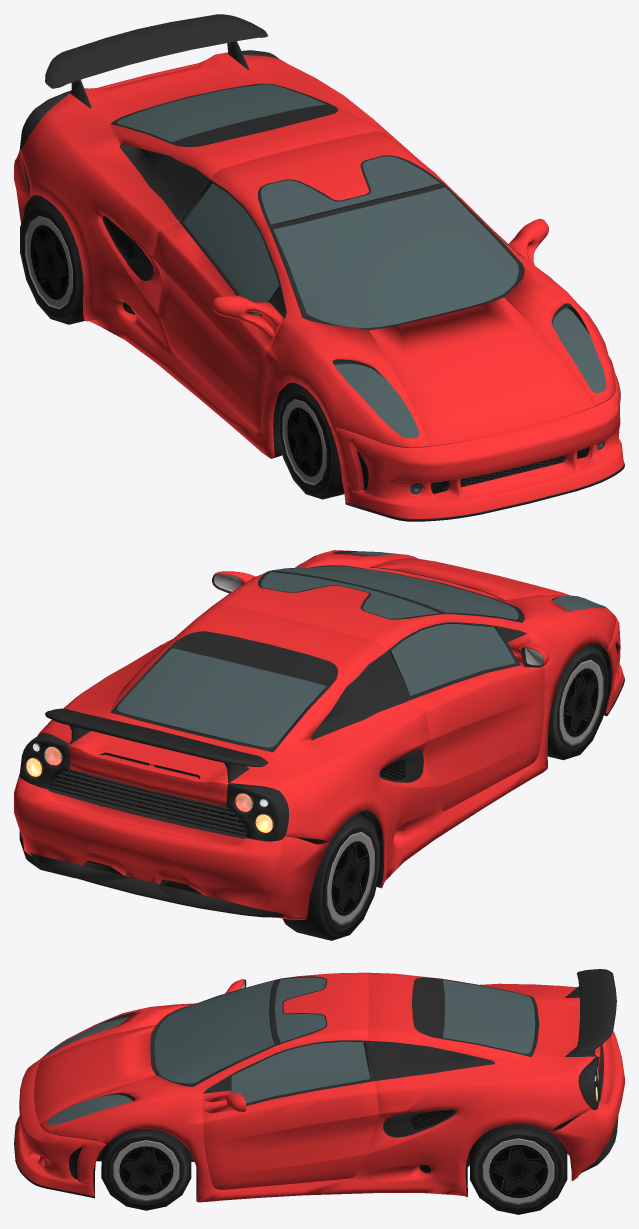
The model's file is Lamborghini Gallardo_red.fbx.
3 renders of one model, top to bottom at view 1: azimuth 30°, elevation 25°; view 2: azimuth 150°, elevation 25°; view 3: azimuth 270°, elevation 25°, orthographic. The views are drawn at different scales.
Parts seen in each view (by area): view 1: Body, Wheel_BR, Wheel_FR; view 2: Body, Wheel_BR, Wheel_FR; view 3: Body, Wheel_BL, Wheel_FL.
Boxes of the visible parts, x1,y1,x2,y2 form: Body: (14, 14, 624, 521); Wheel_BR: (20, 197, 84, 324); Wheel_FR: (277, 383, 344, 499); Body: (14, 550, 624, 919); Wheel_BR: (283, 813, 380, 940); Wheel_FR: (547, 643, 608, 760); Body: (14, 969, 624, 1202); Wheel_BL: (470, 1124, 567, 1214); Wheel_FL: (101, 1129, 191, 1210).
Size of the model in its own units: 6.37 by 3.84 by 13.2.
